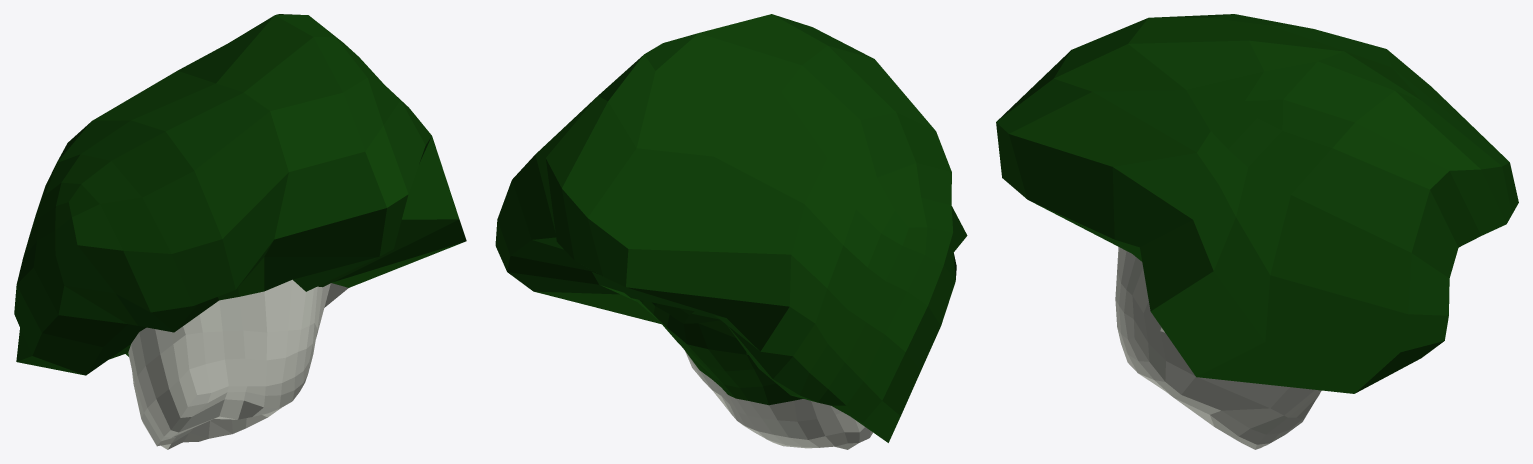
File: Brocoli.fbx
3 views of the same model, side by side, from view 1: azimuth 30°, elevation 25°; view 2: azimuth 150°, elevation 25°; view 3: azimuth 270°, elevation 25° (orthographic). The views are drawn at different scales.
Visible parts, largest first — view 1: Cube.012; view 2: Cube.012; view 3: Cube.012.
Boxes of the visible parts, x1,y1,x2,y2 form: Cube.012: (14,14,466,449); Cube.012: (495,14,967,449); Cube.012: (996,14,1518,449).
Size of the model in its own units: 485 by 451 by 473.
